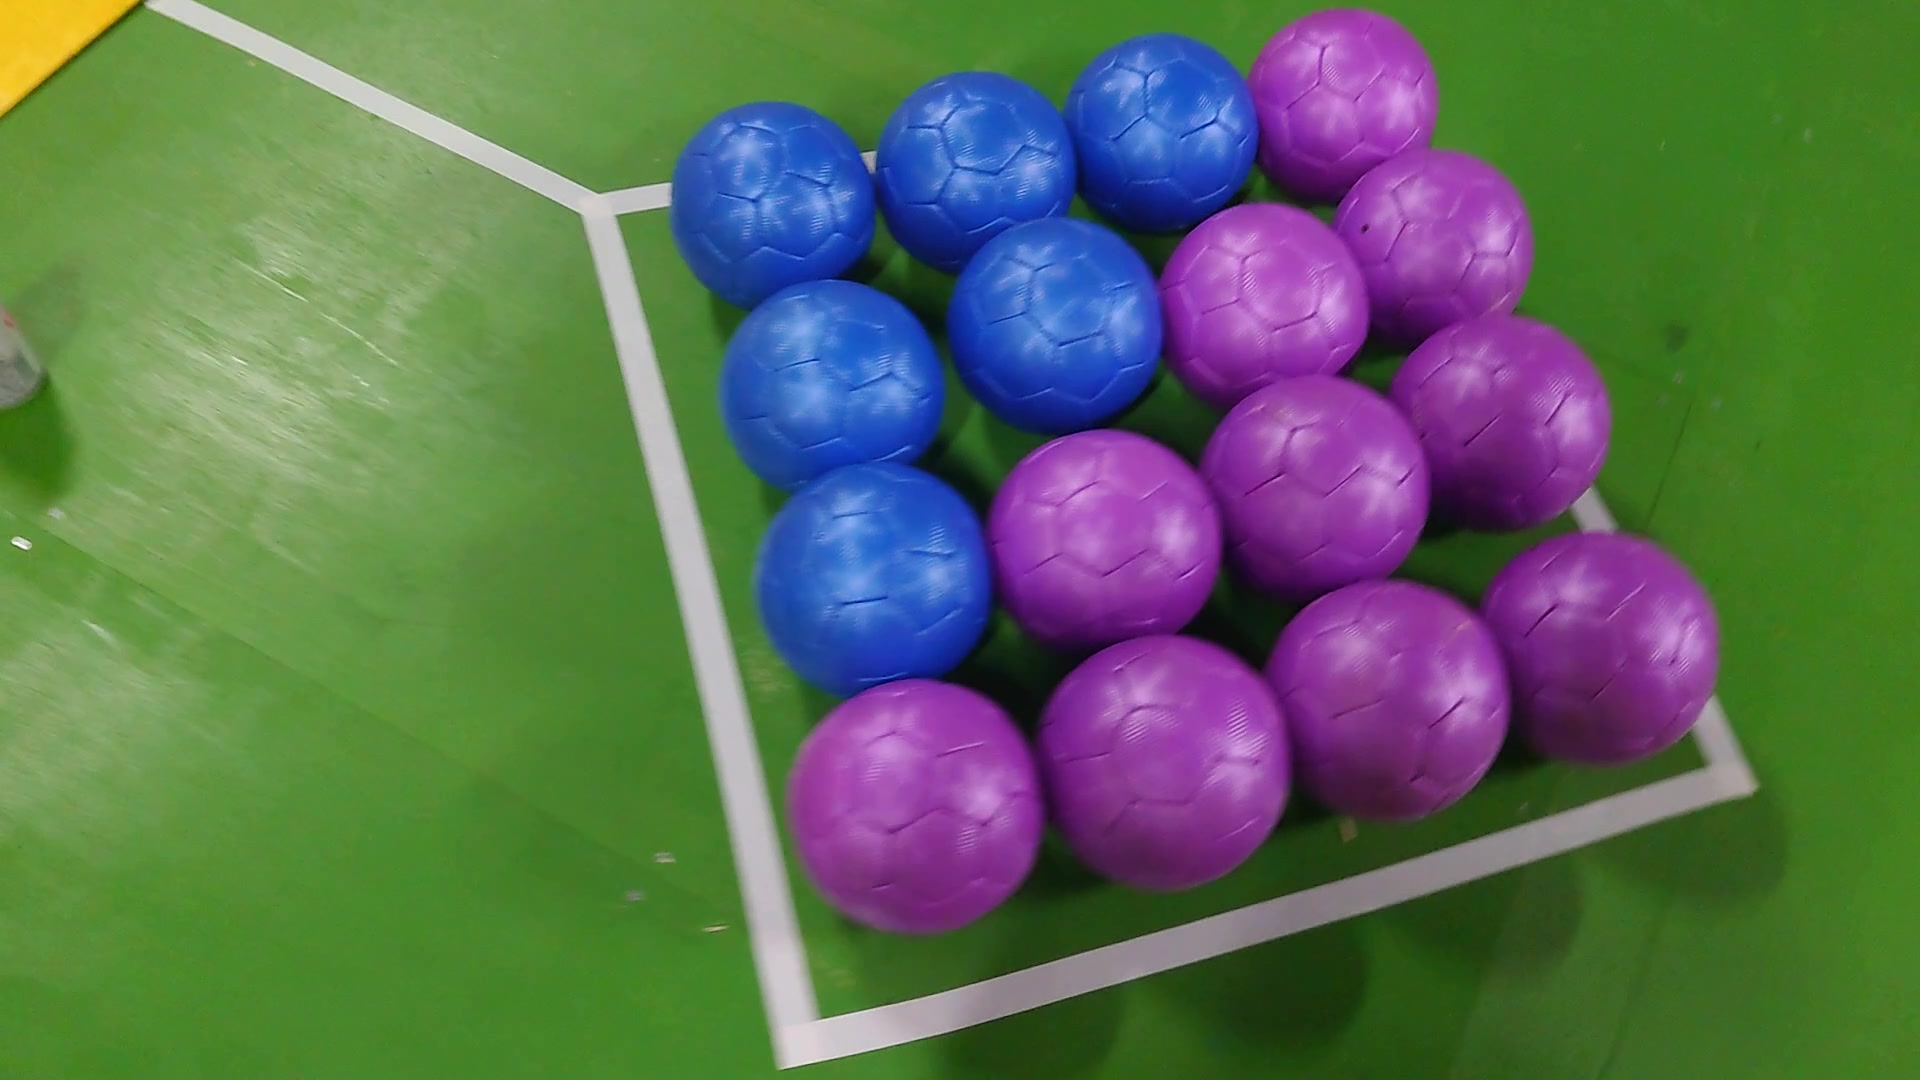blue: (754, 464, 989, 686), (712, 281, 940, 483), (947, 215, 1163, 425), (663, 98, 882, 297), (876, 71, 1077, 261), (1062, 33, 1257, 222)
purple: (783, 673, 1044, 944), (1031, 633, 1294, 891), (1263, 571, 1511, 823), (1482, 533, 1717, 774), (982, 427, 1228, 653), (1195, 369, 1431, 595), (1387, 314, 1613, 529), (1153, 199, 1371, 372), (1247, 7, 1440, 183), (1332, 150, 1531, 320)
